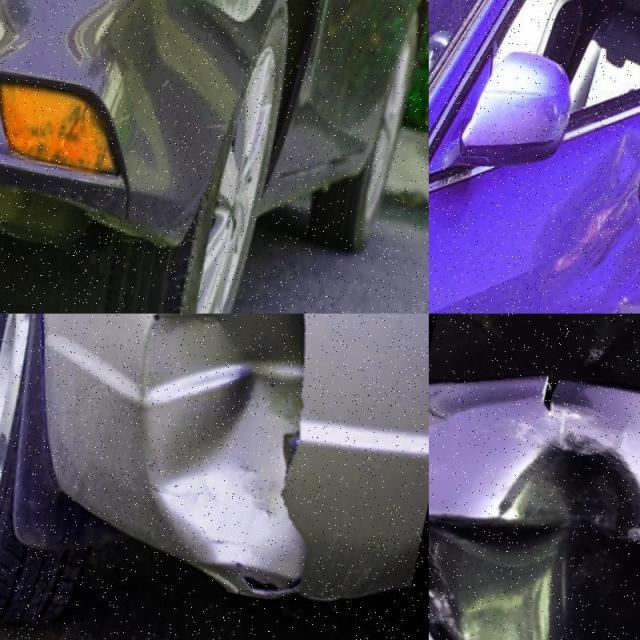car damage: (148, 325, 303, 555), (96, 0, 240, 219), (537, 123, 640, 288), (275, 438, 313, 567), (236, 575, 304, 599), (540, 381, 565, 417)
